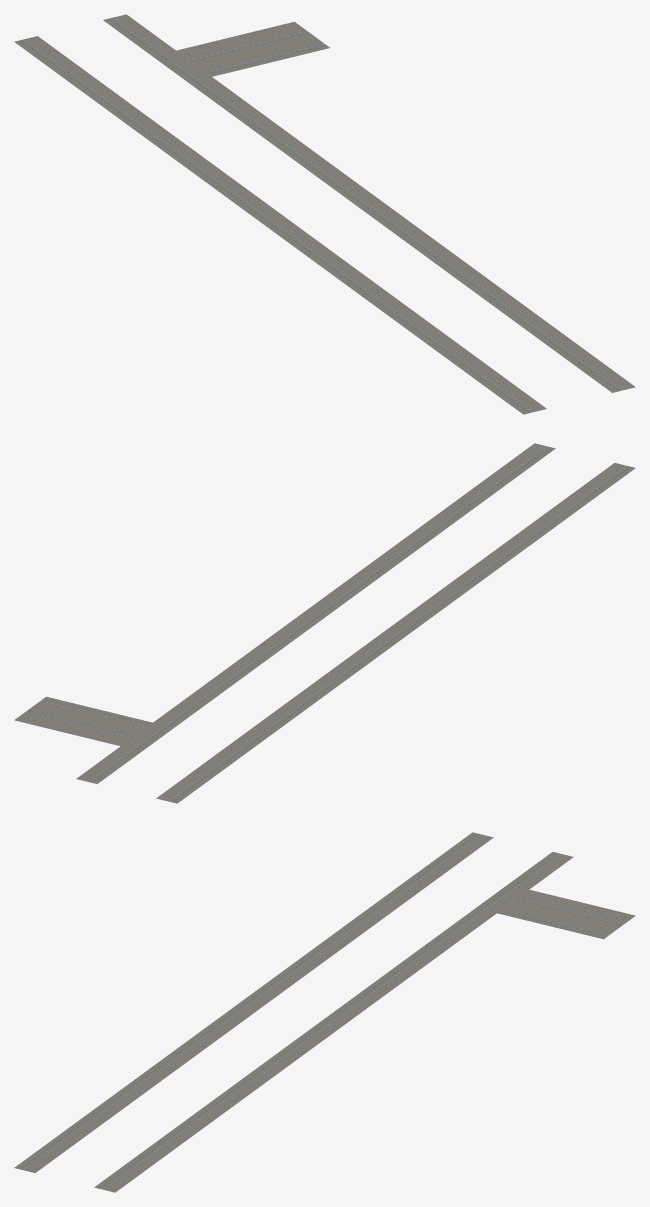
File: SideWalker_PsjRevol.fbx
3 renders of one model, top to bottom at view 1: azimuth 30°, elevation 25°; view 2: azimuth 150°, elevation 25°; view 3: azimuth 330°, elevation 25°, orthographic. The views are drawn at different scales.
Visible parts, largest first — view 1: SideWalker_paseoArtes_PjsRevol.001; view 2: SideWalker_paseoArtes_PjsRevol.001; view 3: SideWalker_paseoArtes_PjsRevol.001.
Boxes of the visible parts, x1,y1,x2,y2 form: SideWalker_paseoArtes_PjsRevol.001: [14, 14, 635, 414]; SideWalker_paseoArtes_PjsRevol.001: [14, 443, 635, 803]; SideWalker_paseoArtes_PjsRevol.001: [14, 832, 635, 1192].
Bounding box in the file's own units: 39 × 0 × 149.
